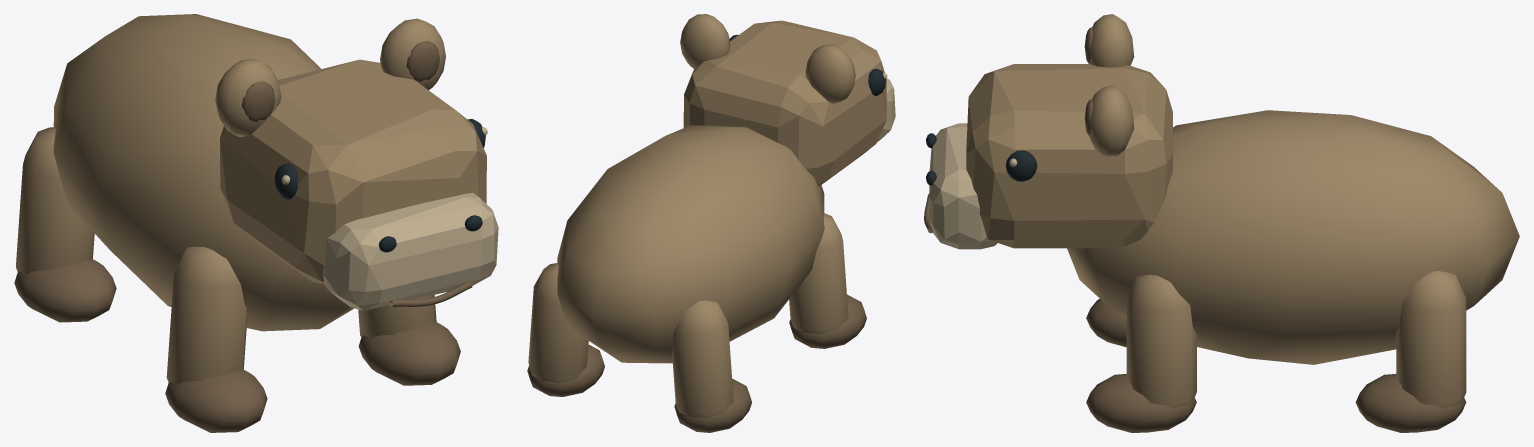
The model's file is org_capybara.glb.
The picture shows the model from 3 angles, left to right: view 1: azimuth 30°, elevation 25°; view 2: azimuth 150°, elevation 25°; view 3: azimuth 270°, elevation 25°; orthographic projection. The views are drawn at different scales.
Parts seen in each view (by area): view 1: Head, Body, Leg_FR, Leg_BR, Leg_FL, Eye_R; view 2: Body, Head, Leg_BR, Leg_BL, Leg_FR, Eye_R; view 3: Body, Head, Leg_BL, Leg_FL, Leg_FR, Eye_L.
Boxes of the visible parts, x1=… form: Head: x1=215, y1=18, x2=498, y2=310; Body: x1=53, y1=14, x2=353, y2=331; Leg_FR: x1=165, y1=246, x2=267, y2=432; Leg_BR: x1=14, y1=127, x2=116, y2=322; Leg_FL: x1=358, y1=295, x2=460, y2=385; Eye_R: x1=274, y1=163, x2=298, y2=199; Body: x1=557, y1=125, x2=824, y2=363; Head: x1=680, y1=14, x2=895, y2=186; Leg_BR: x1=672, y1=300, x2=751, y2=432; Leg_BL: x1=527, y1=263, x2=604, y2=396; Leg_FR: x1=789, y1=213, x2=866, y2=348; Eye_R: x1=868, y1=68, x2=887, y2=96; Body: x1=1067, y1=110, x2=1519, y2=364; Head: x1=924, y1=14, x2=1172, y2=249; Leg_BL: x1=1355, y1=271, x2=1466, y2=432; Leg_FL: x1=1086, y1=274, x2=1196, y2=432; Leg_FR: x1=1086, y1=299, x2=1126, y2=347; Eye_L: x1=1005, y1=150, x2=1037, y2=181.
Bounding box in the file's own units: 0.5417 × 0.7 × 1.14.
